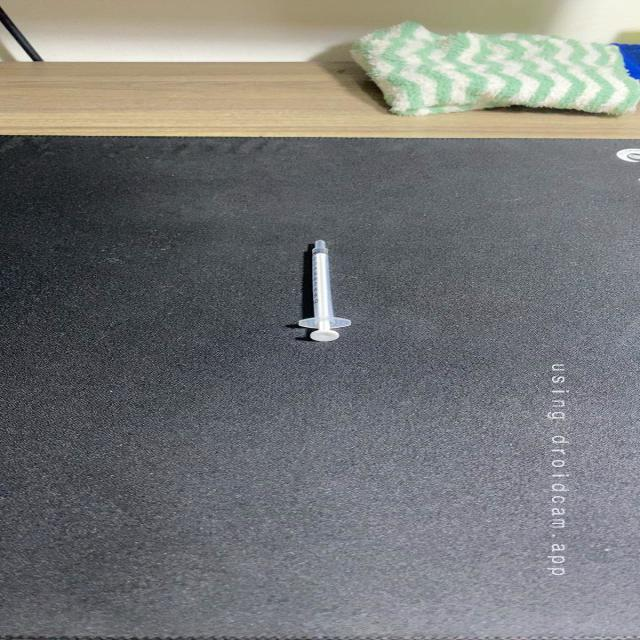syringe: (293, 234, 354, 344)
